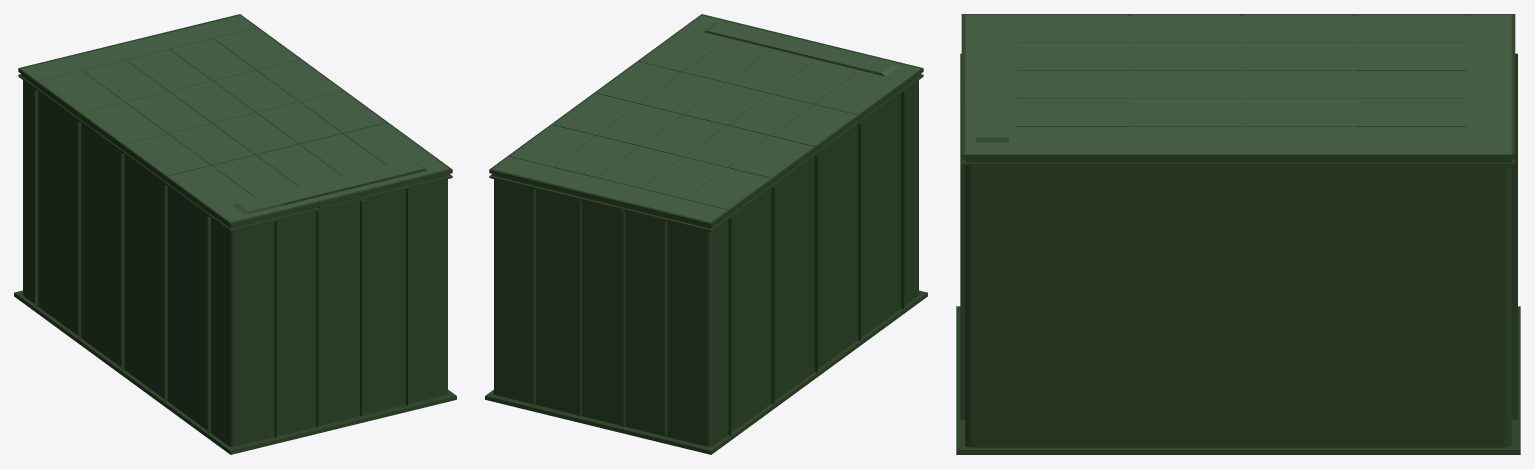
3 views of the same model, side by side, from view 1: azimuth 30°, elevation 25°; view 2: azimuth 150°, elevation 25°; view 3: azimuth 270°, elevation 25° (orthographic). The views are drawn at different scales.
Visible parts, largest first — view 1: Cube; view 2: Cube; view 3: Cube.
Boxes of the visible parts, left/top/right/bottom form: Cube: left=14, top=14, right=456, bottom=454; Cube: left=485, top=14, right=927, bottom=454; Cube: left=956, top=14, right=1520, bottom=454.
Bounding box in the file's own units: 207 × 202 × 343.
